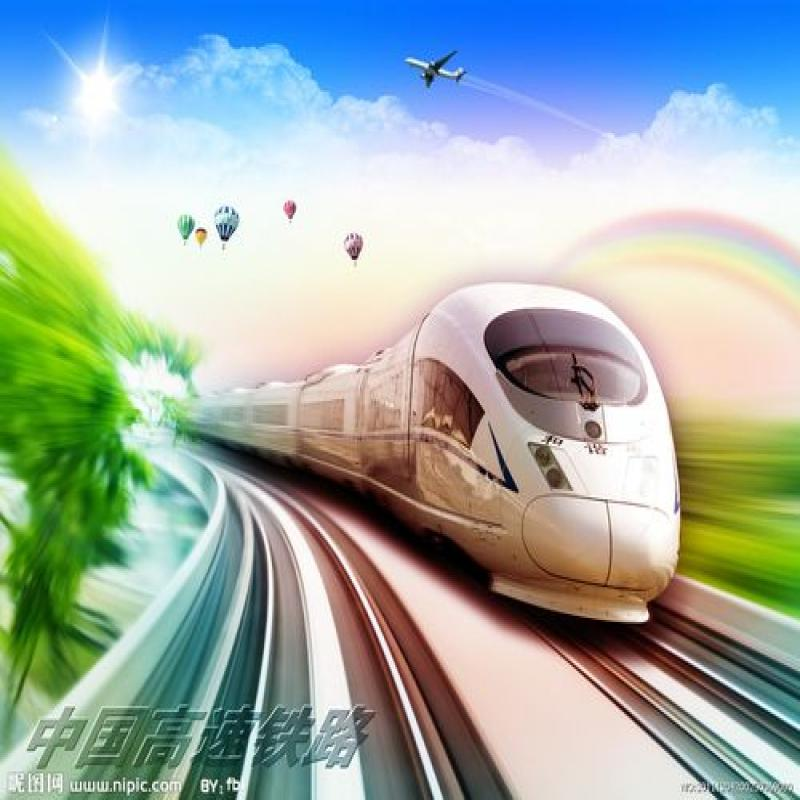train: (246, 296, 686, 637)
